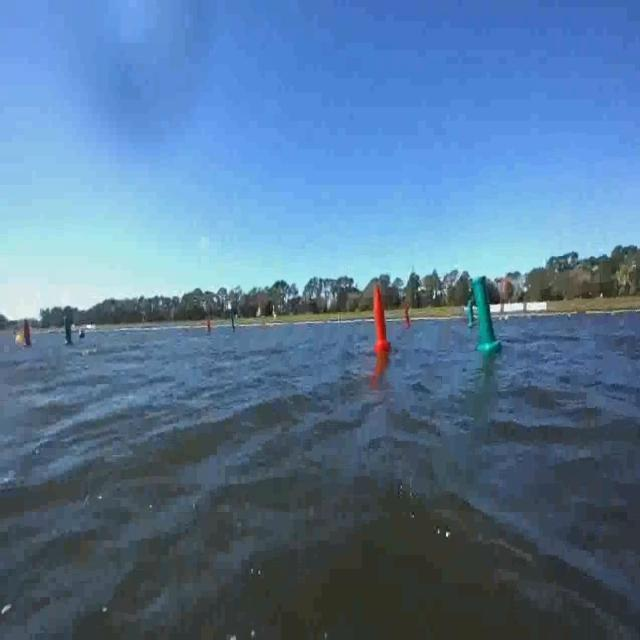green-column-buoy: (476, 275, 503, 353), (62, 310, 76, 346), (470, 298, 478, 326), (232, 313, 238, 333)
red-column-buoy: (372, 284, 391, 351), (23, 318, 34, 347), (405, 301, 413, 327), (206, 317, 213, 335)
yellow-buoy: (15, 332, 23, 346)
